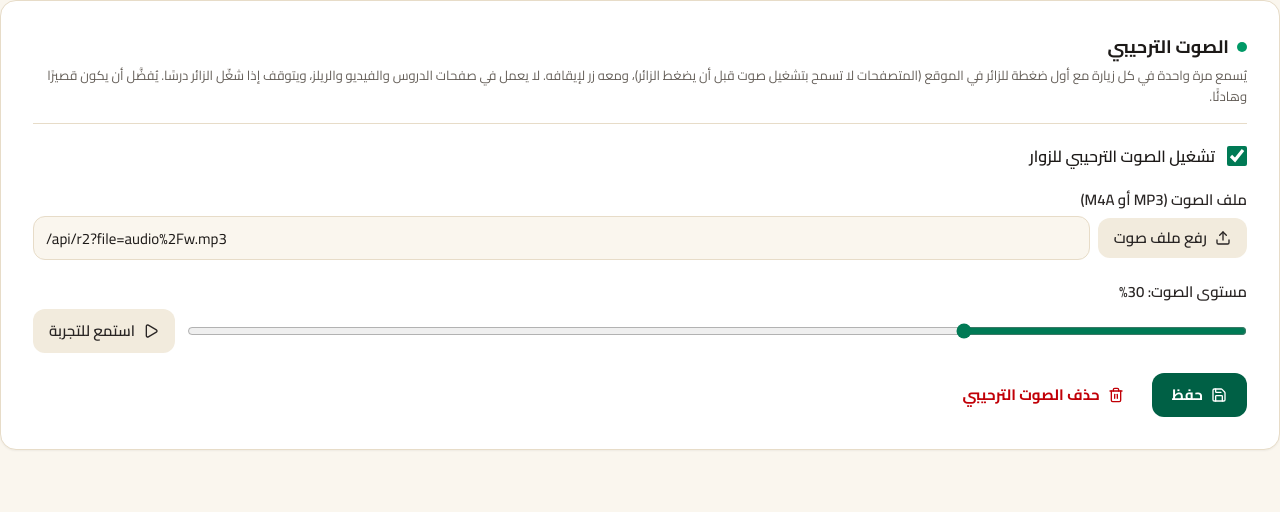
it: WelcomeSoundSettings › refuses to save an enabled recording longer than the limit
Click the button "حفظ" at {"x": 1199, "y": 395}, box [1152, 373, 1247, 417]
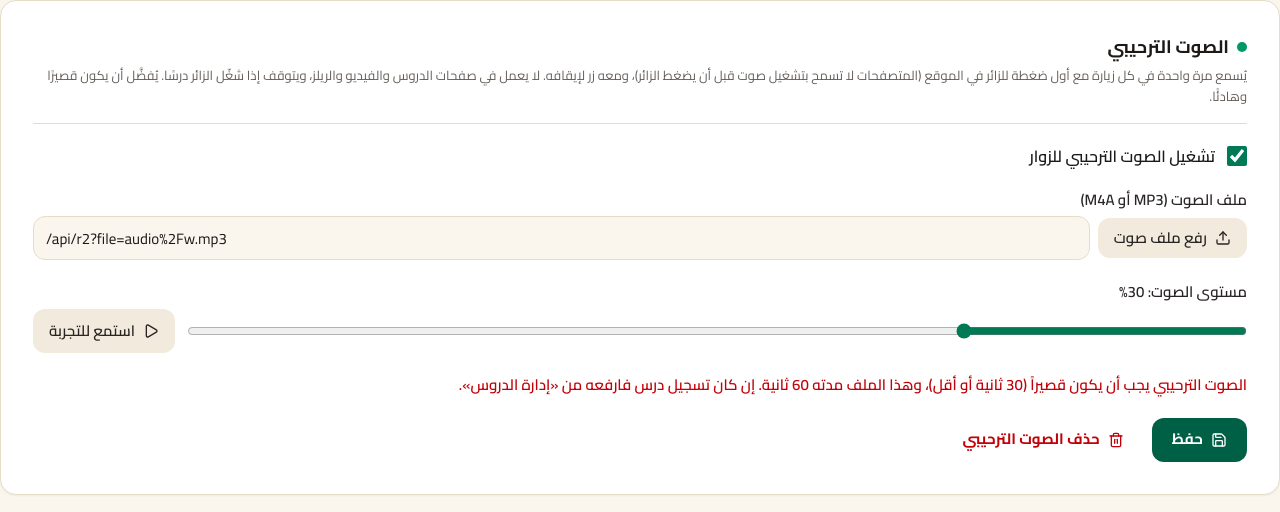
Check: the message shows "30 ثانية", box [459, 370, 1247, 399]
